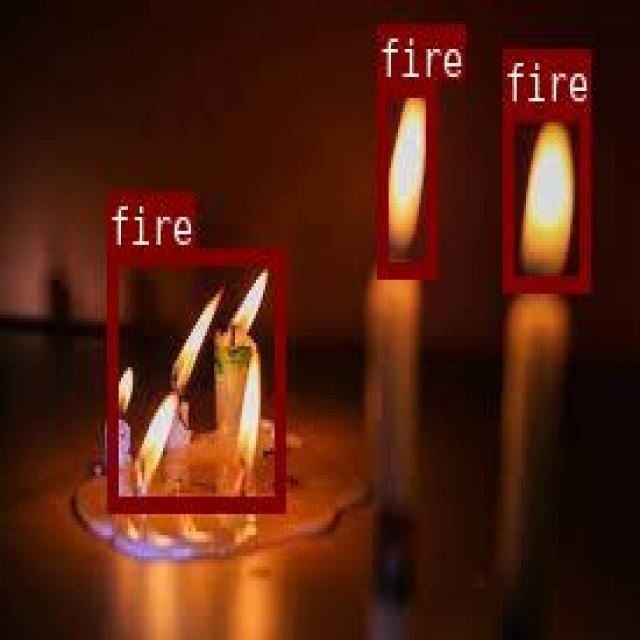fire: (105, 248, 282, 508), (502, 104, 587, 287), (375, 80, 435, 273)
